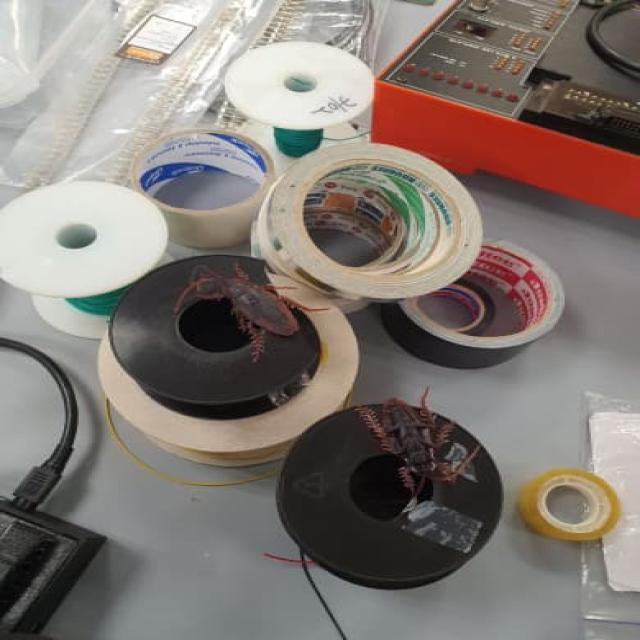Cockroach: (343, 385, 484, 497), (176, 256, 334, 353)
